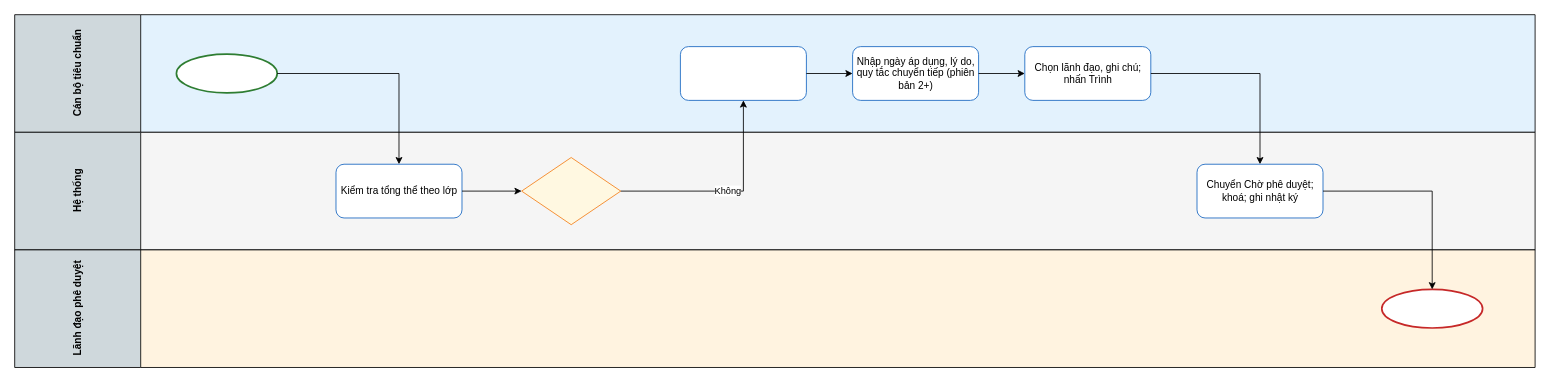
The diagram is 1550 pixels wide and 382 high, and some of its shapes have lost their labels. The centre of each missing label's shape, as x and y in pixels:
"Có lỗi?" goes at point (571, 191).
"Nhấn Trình phê duyệt" goes at point (226, 73).
"Nhận thông báo bản trình" goes at point (1432, 308).
"Xác nhận đã đọc cảnh báo" goes at point (743, 73).
